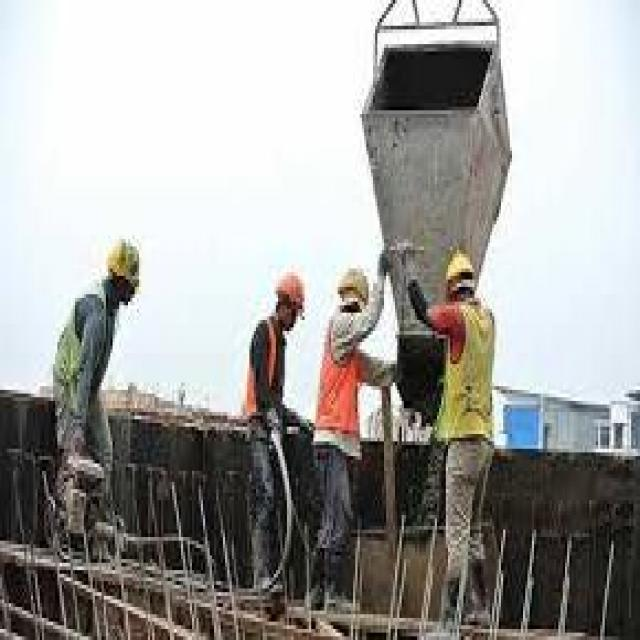Reflective-Jacket: (426, 298, 508, 467), (309, 302, 375, 464), (238, 309, 298, 427)
Safety-Helmet: (95, 228, 148, 305), (267, 258, 313, 331), (327, 254, 373, 312), (437, 236, 481, 294)
